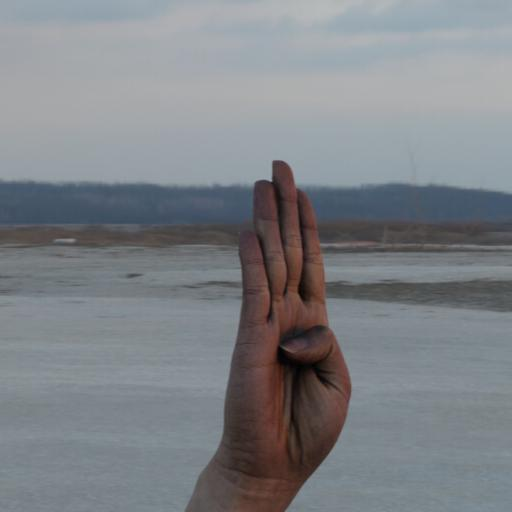B: (215, 155, 357, 489)
